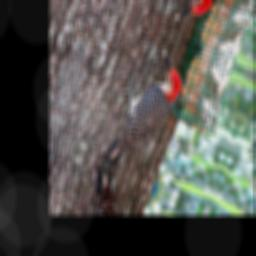Woodpecker: (92, 36, 191, 185)
